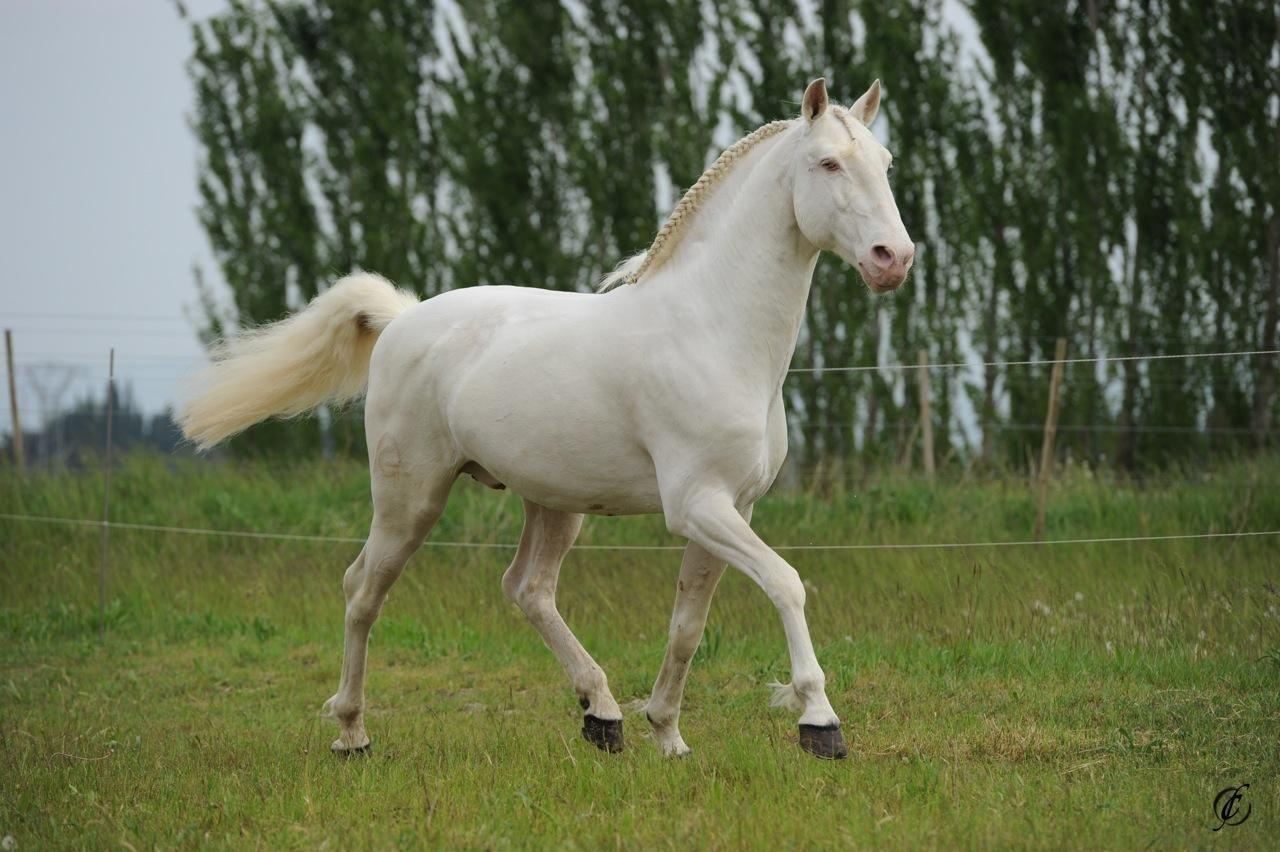horse: (164, 72, 924, 768)
